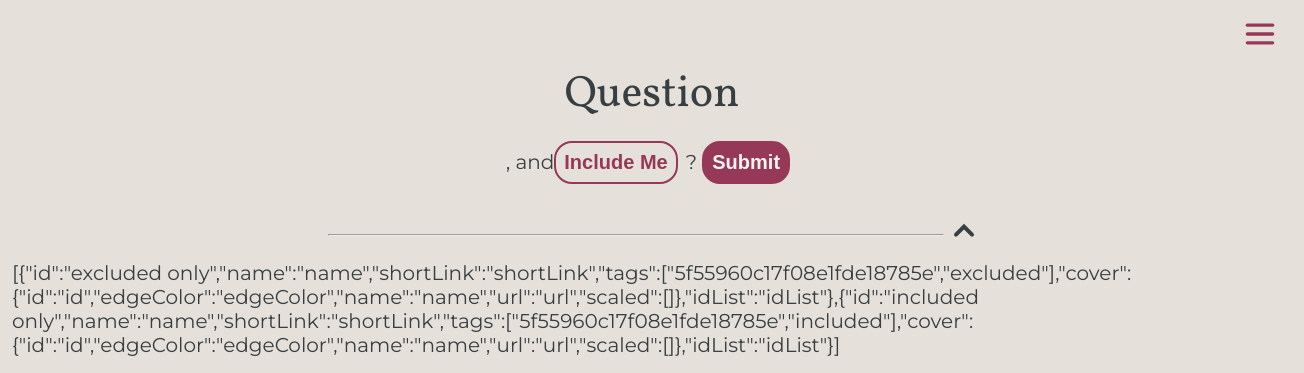
Test case: component/home/Home › answering questions › questions with multiple answers › removes recipes on only one answer of Inclusionary type
Click the button "Include Me" at (616,162), box [554,141,678,184]
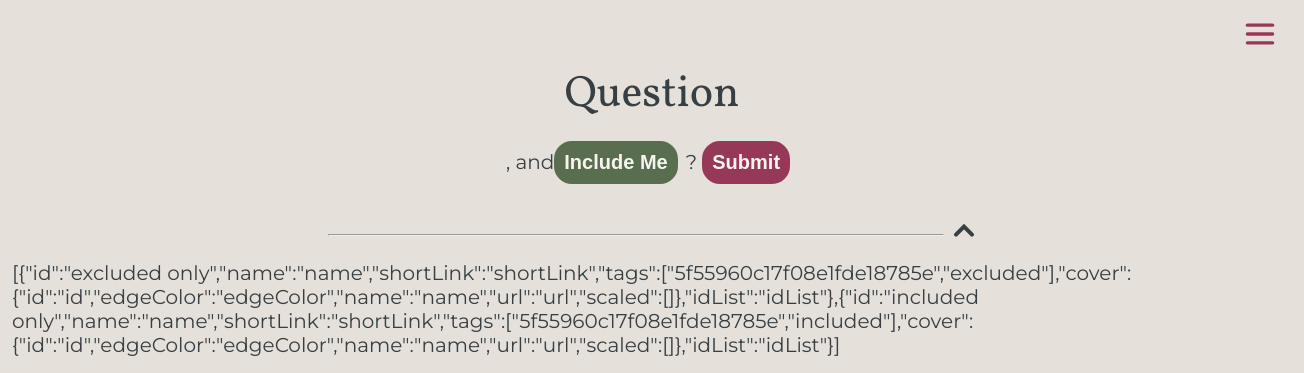
Click the button "Submit" at (746,162), box [702,141,790,184]
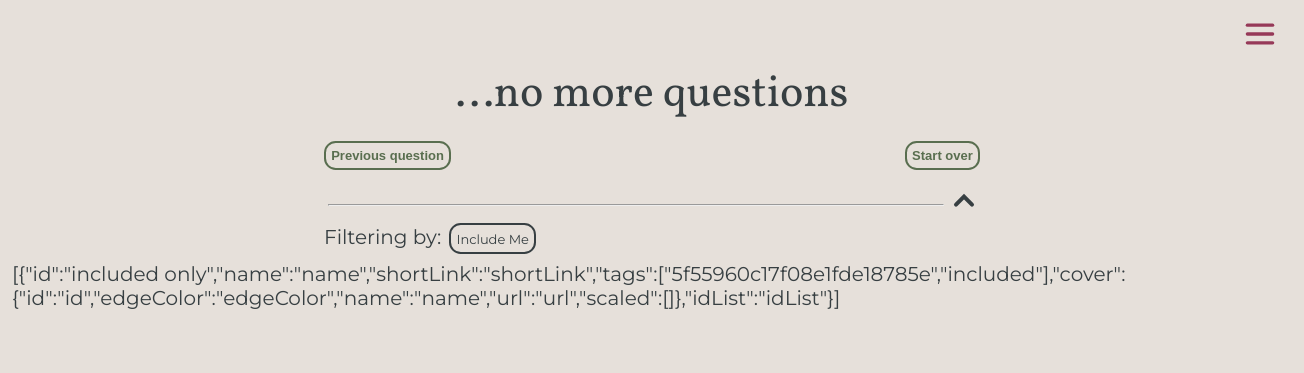
Expected: the text titled "List" shows "included only", [12,262,1126,310]
Expected: the text titled "List" no longer shows "excluded only"
